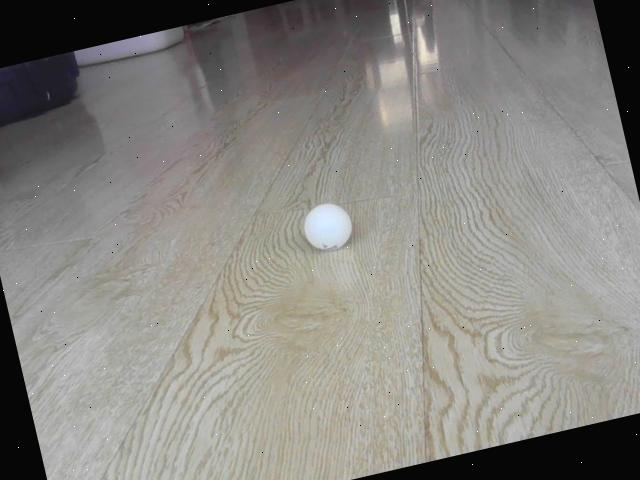ball: (300, 199, 356, 253)
